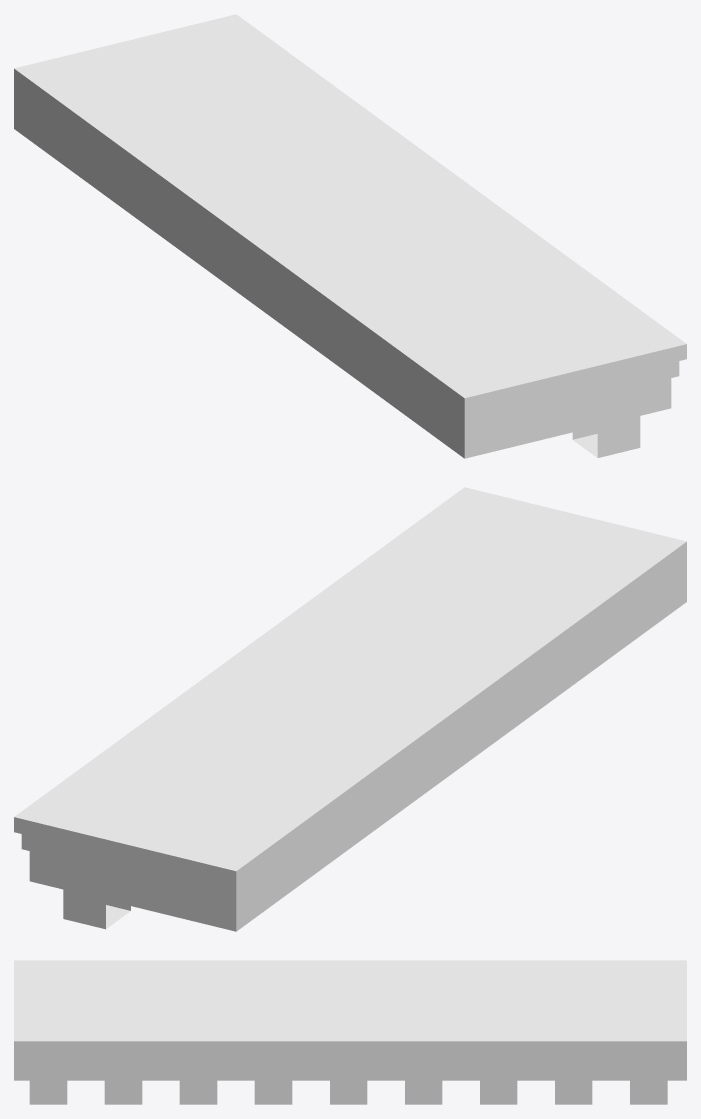
Rendered from dentil_molding_straight.glb.
3 views of the same model, one above another, from view 1: azimuth 30°, elevation 25°; view 2: azimuth 150°, elevation 25°; view 3: azimuth 270°, elevation 25° (orthographic). The views are drawn at different scales.
Visible parts, largest first — view 1: DentilMolding; view 2: DentilMolding; view 3: DentilMolding.
Boxes of the visible parts, box(x1,y1,x2,y2) form: DentilMolding: box(14, 14, 686, 458); DentilMolding: box(14, 487, 686, 931); DentilMolding: box(14, 960, 686, 1104).
Size of the model in its own units: 0.5698 by 0.2513 by 2.
Materials: 1 (1 with a texture image).
